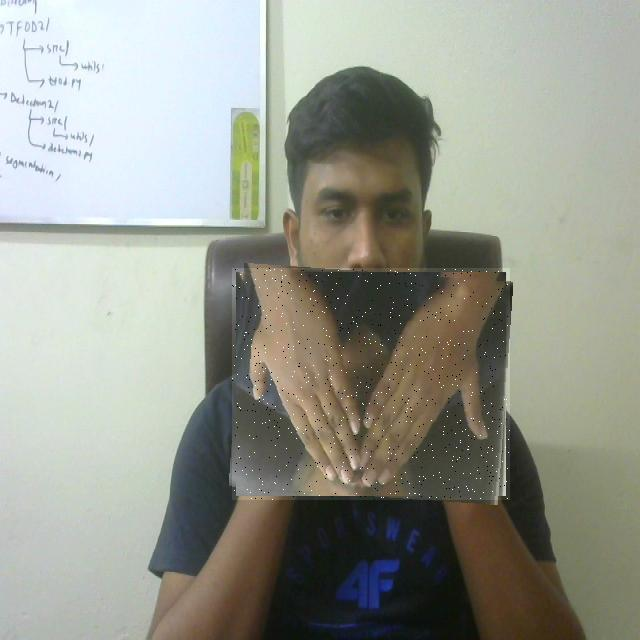Thanks: (232, 268, 510, 500)
